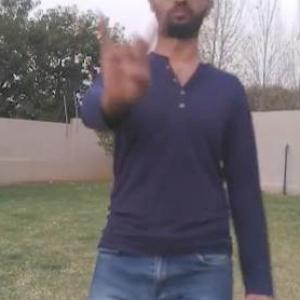takeoff-hand: (90, 0, 170, 110)
